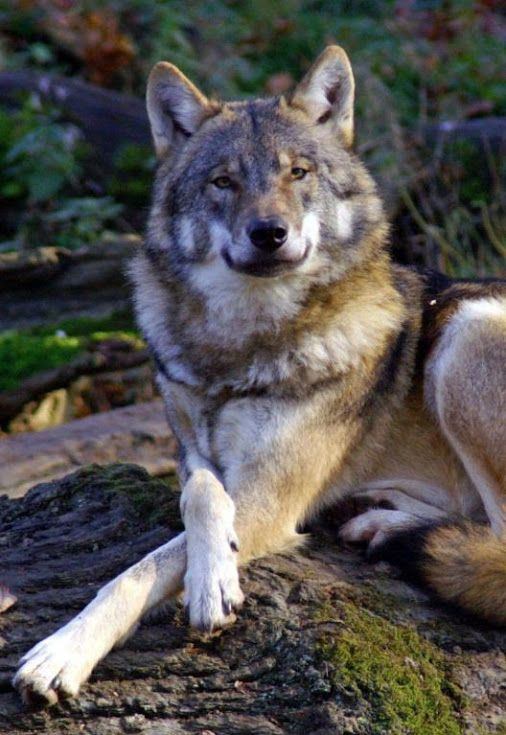Lobo: (90, 28, 505, 636)
